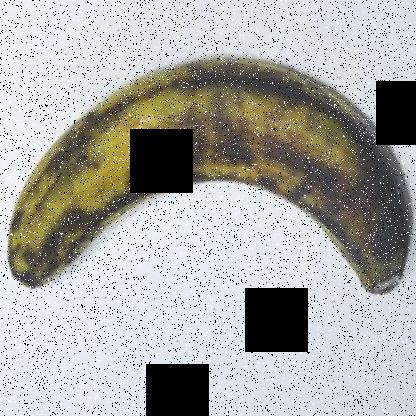overripe: (0, 41, 415, 331)
rotten: (329, 94, 415, 304)
